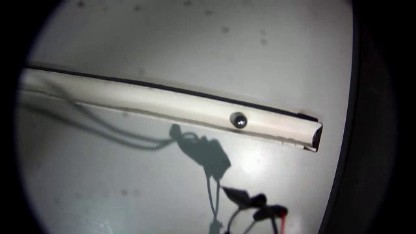gangzhu: (232, 115, 247, 128)
